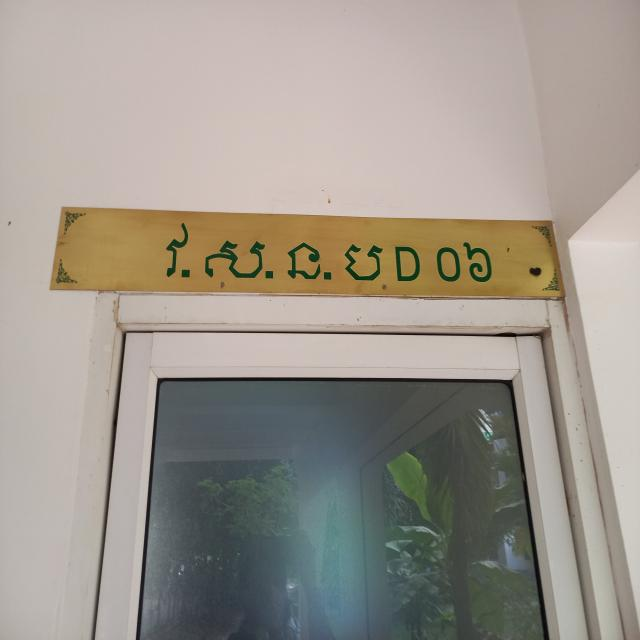Yolov11_80vkh: (161, 214, 388, 288), (433, 233, 497, 288)
